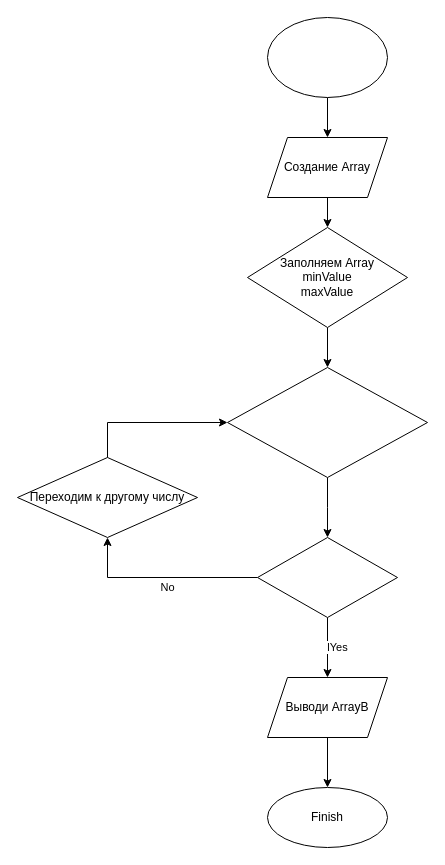
Image size: 445x865. Some labels were removed from this diagram. The centre of each missing label's shape, as x and y in pixels:
"Start" belongs at [327,57].
"Проверям Array на четность" belongs at [327,422].
"Число делится на 2 без остатка" belongs at [327,577].
